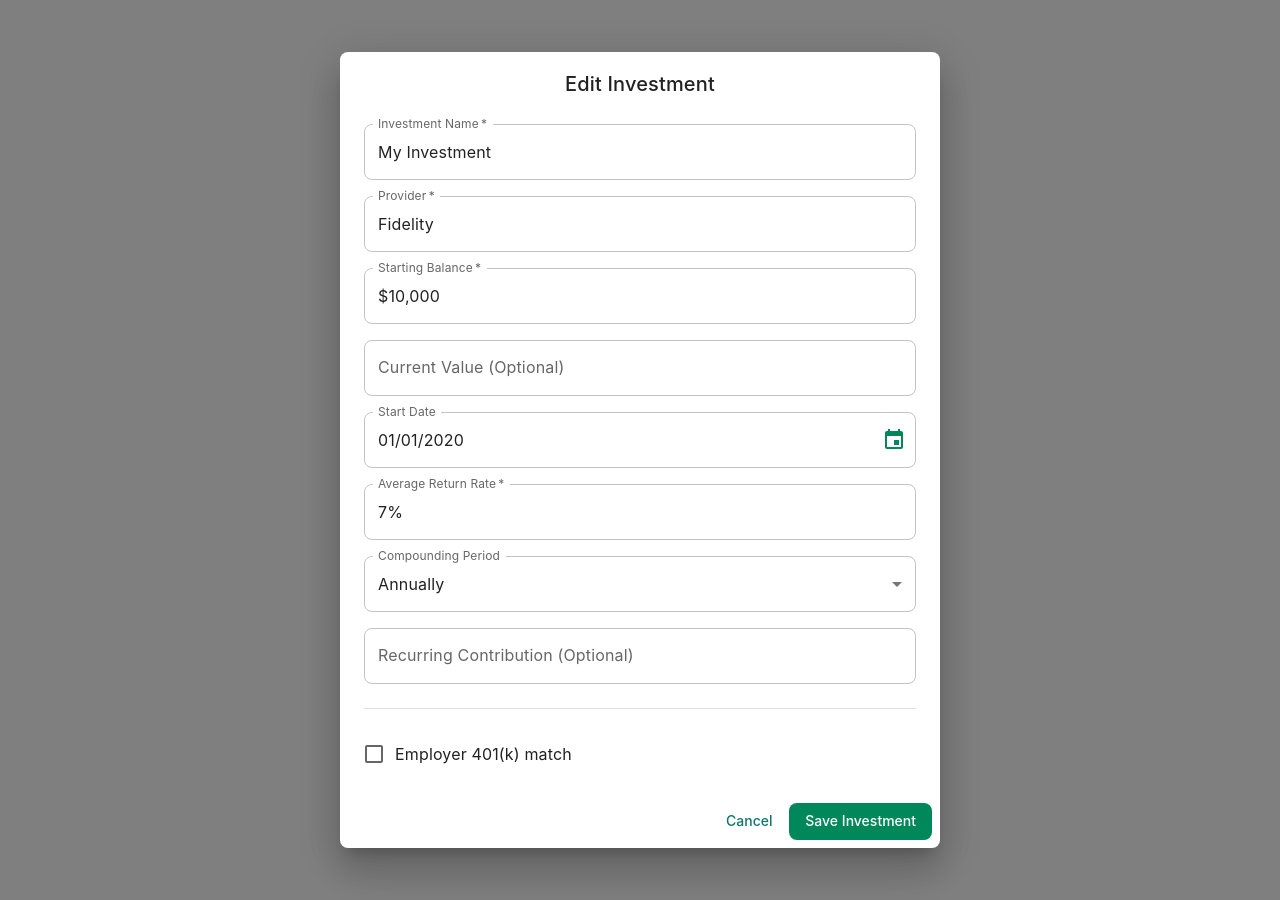
Test case: AddEditInvestment (form) › blocks saving when Current Value is negative (#99 rule, now reachable)
Type "-100" into the field labelled "Current Value (Optional)" at (640, 368), box [364,340,916,396]
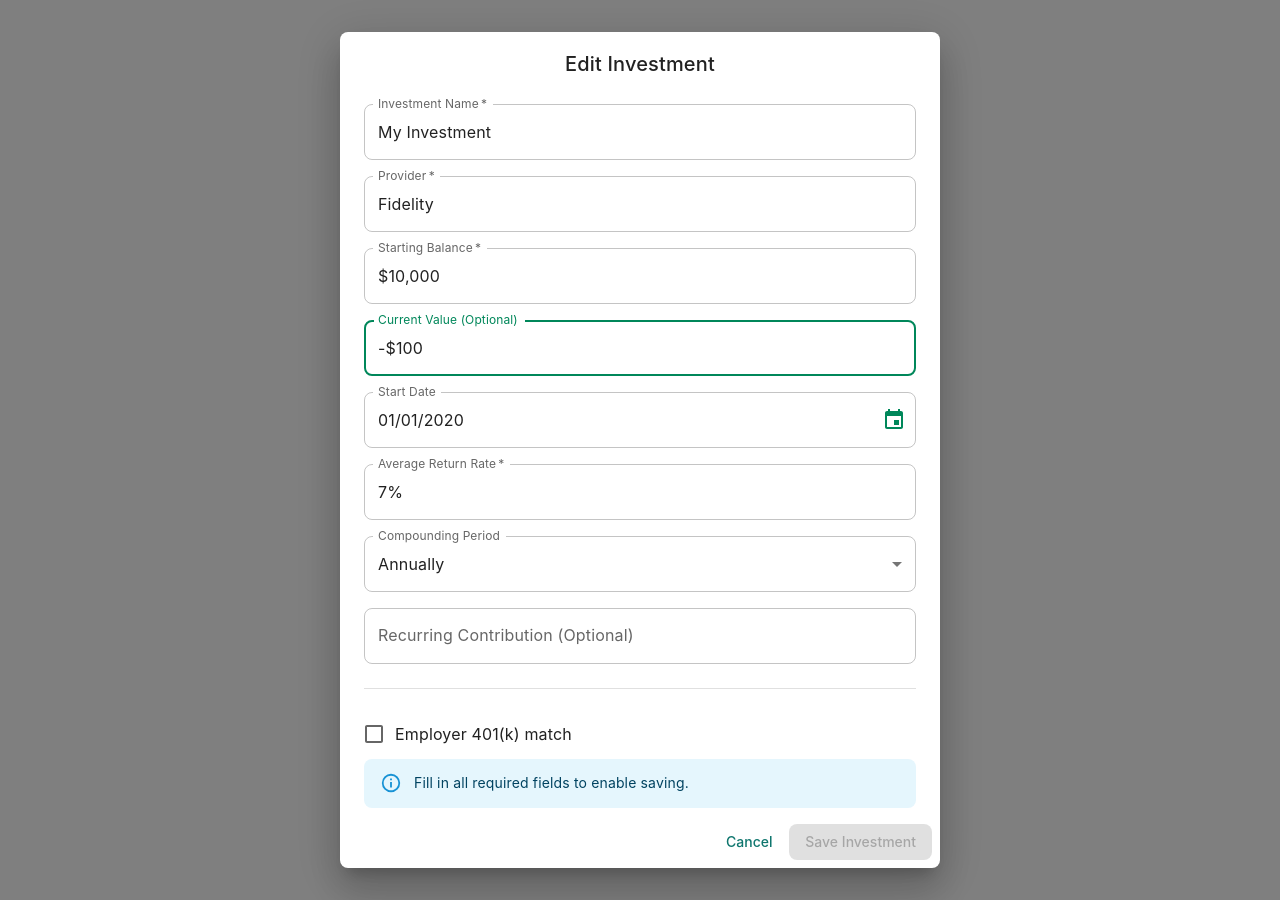
Check: the button "Save Investment" is disabled, box [789,824,932,860]
